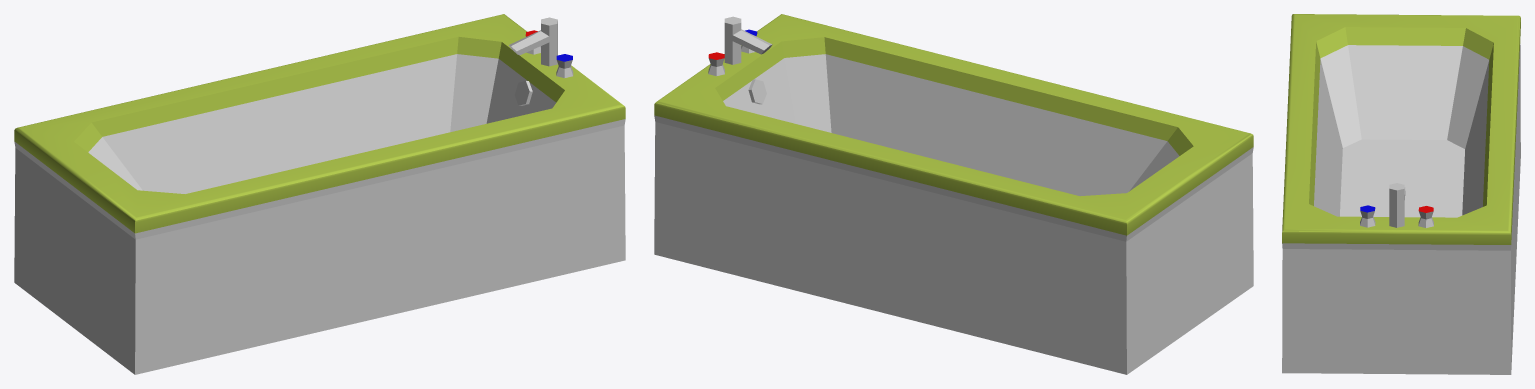
File: Bath.fbx
The picture shows the model from 3 angles, left to right: view 1: azimuth 30°, elevation 25°; view 2: azimuth 150°, elevation 25°; view 3: azimuth 270°, elevation 25°; orthographic projection. The views are drawn at different scales.
Visible parts, largest first — view 1: bath; view 2: bath; view 3: bath.
Part boxes in pixels (bbox=[...]): bath: bbox=[14, 14, 625, 374]; bath: bbox=[654, 14, 1253, 374]; bath: bbox=[1282, 14, 1520, 374].
Size of the model in its own units: 1.81 by 0.6943 by 0.8331.
